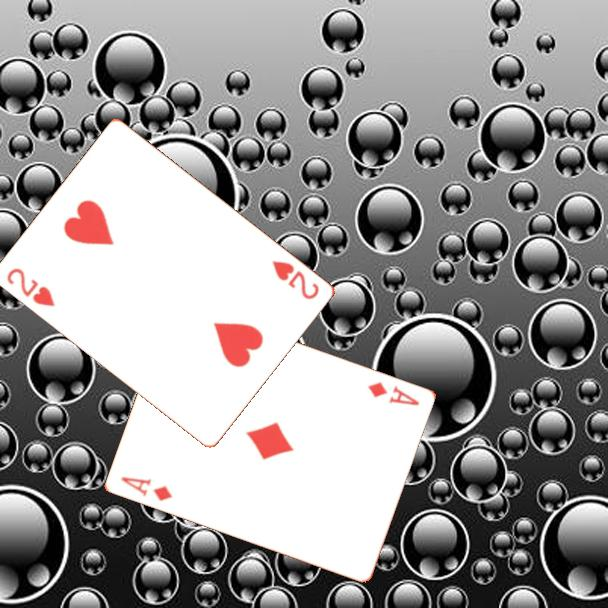d01: (117, 473, 176, 504), (364, 378, 423, 408)
h02: (4, 264, 59, 310), (269, 257, 323, 302)
